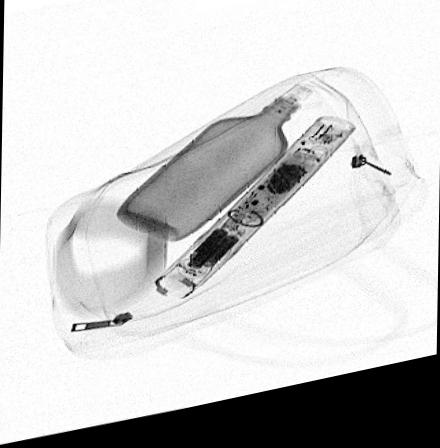Baton: (154, 128, 357, 308)
